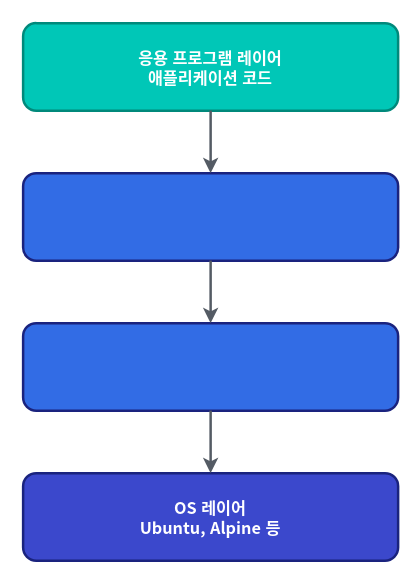
Image size: 420x583. Some labels were removed from this diagram. The centre of each missing label's shape, as x and y in pixels:
"런타임 레이어 Node.js, Python 등" belongs at point 210,366.
"의존성 레이어 npm 패키지, pip 패키지 등" belongs at point 210,216.
